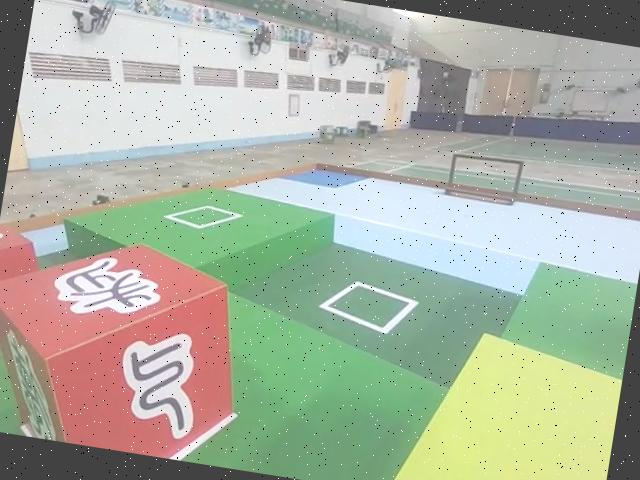R2 Fake: (0, 215, 259, 468)
